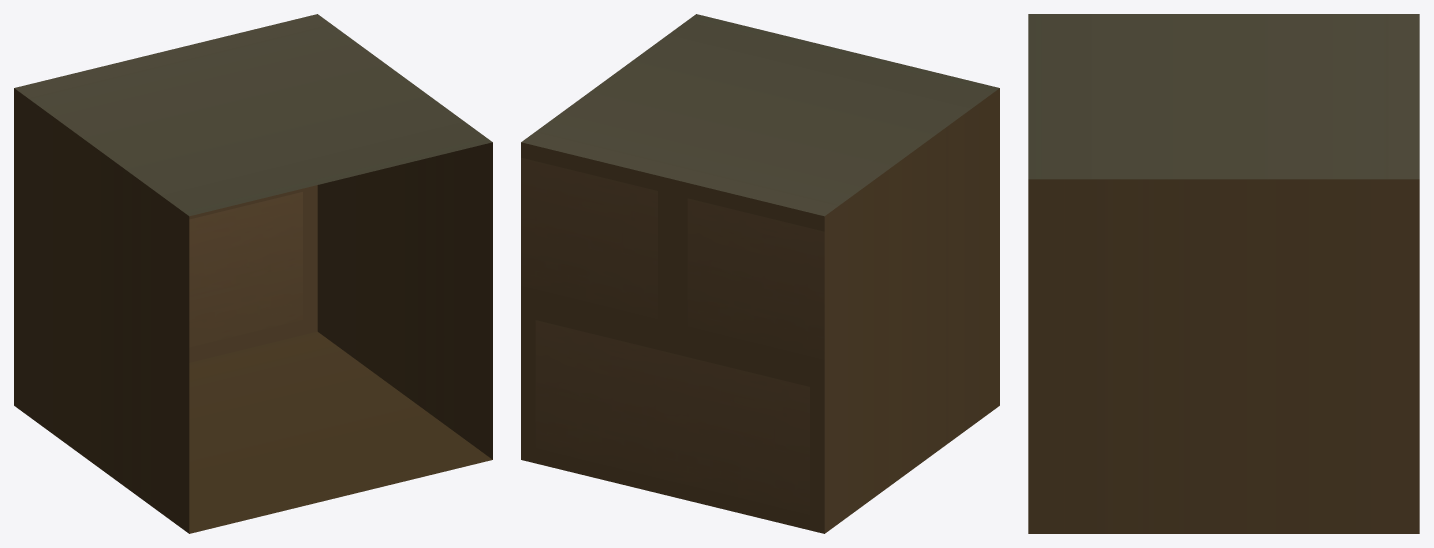
File: SM_BaseblockBackground1_Level1.fbx
The picture shows the model from 3 angles, left to right: view 1: azimuth 30°, elevation 25°; view 2: azimuth 150°, elevation 25°; view 3: azimuth 270°, elevation 25°; orthographic projection. The views are drawn at different scales.
Parts seen in each view (by area): view 1: SM_BaseblockBackground1_Level1; view 2: SM_BaseblockBackground1_Level1; view 3: SM_BaseblockBackground1_Level1.
Boxes of the visible parts, left/top/right/bottom form: SM_BaseblockBackground1_Level1: left=14, top=14, right=492, bottom=533; SM_BaseblockBackground1_Level1: left=521, top=14, right=999, bottom=533; SM_BaseblockBackground1_Level1: left=1028, top=14, right=1419, bottom=533.
Bounding box in the file's own units: 100 × 100 × 100.
